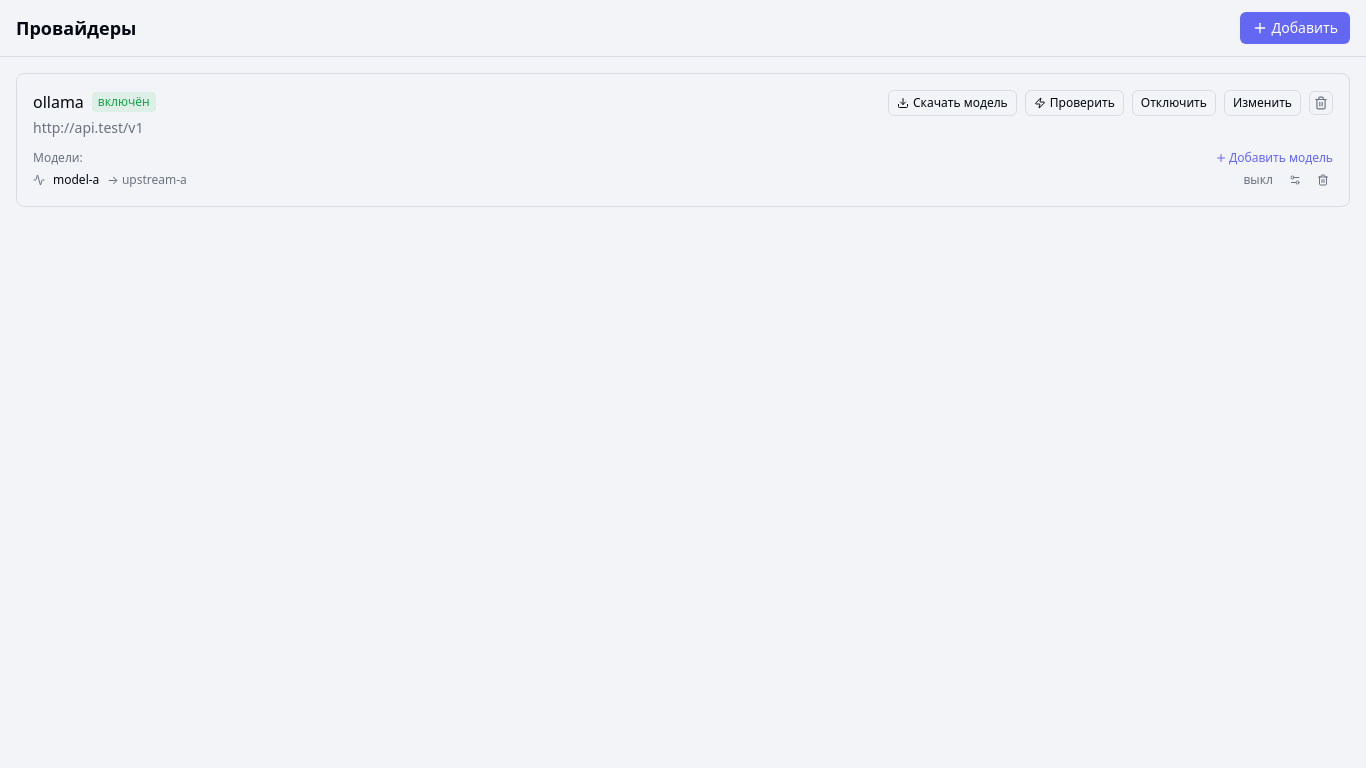
Test: ProvidersPage: удаление модели (T-443, коммит 2) › ошибка очистки диска показывается, модалка не закрывается
What coordinates should you click on to do the following:
click the button named "Удалить модель"
I would click on:
 (1323, 180)
Its box is [1313,172,1333,188].
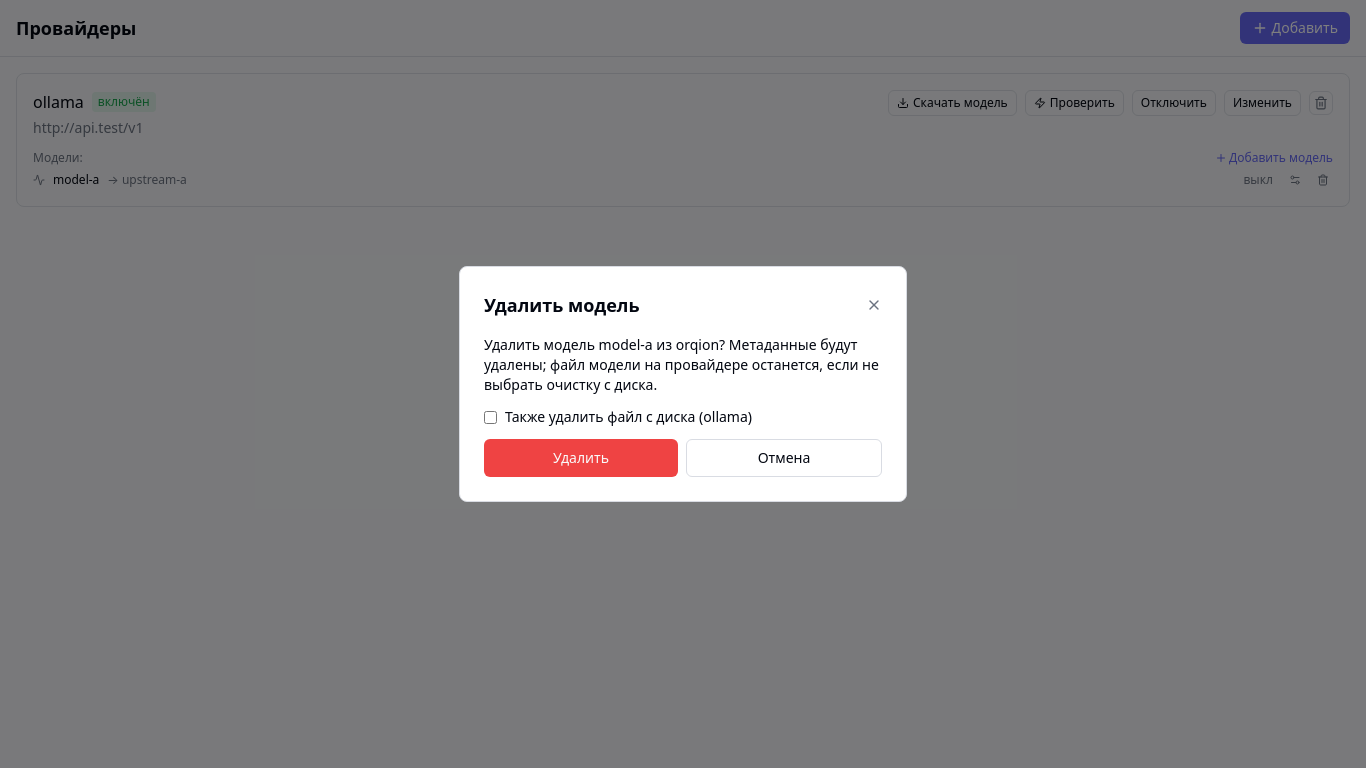
What coordinates should you click on to do the following:
click the checkbox
I would click on:
 (490, 417)
Its box is [484,410,497,424].
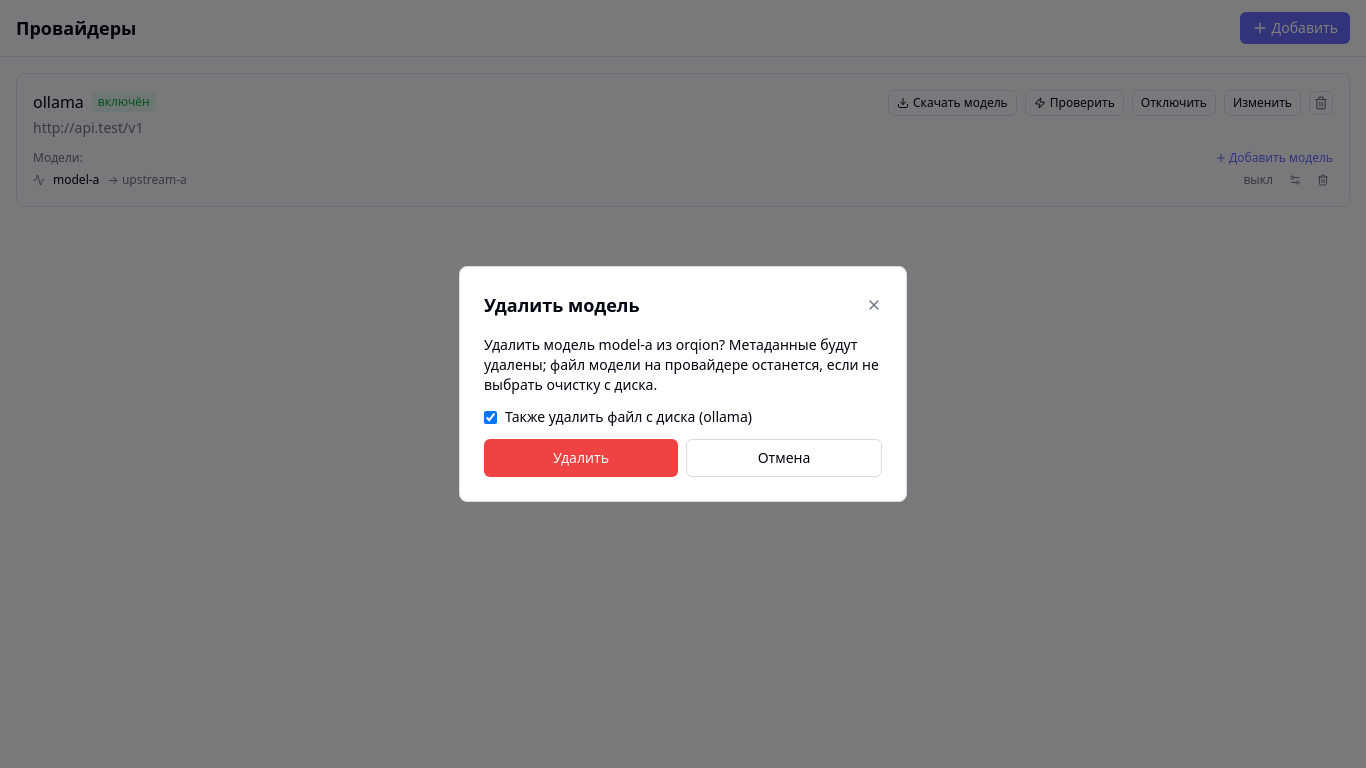
What coordinates should you click on to do the following:
click the button "Удалить"
I would click on:
 (581, 458)
Its box is [484,439,678,477].
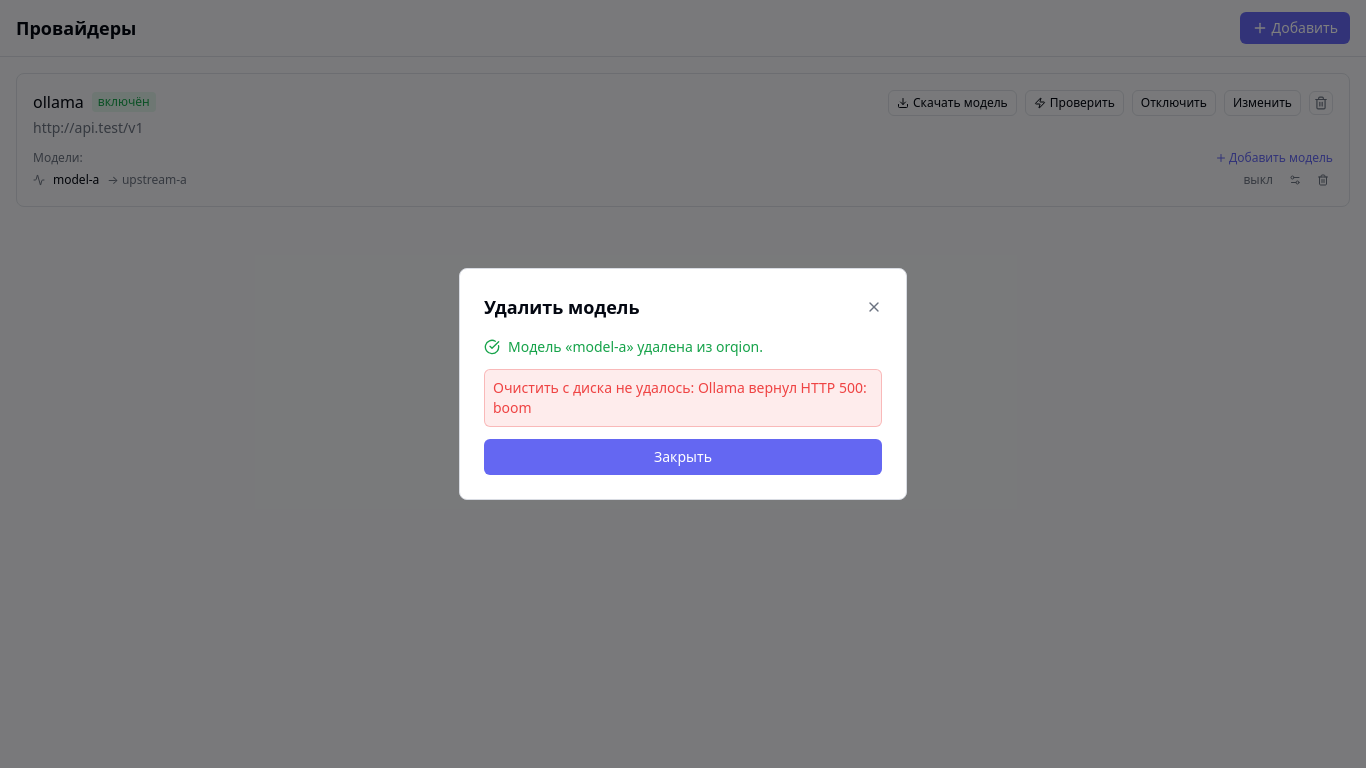
Now the text "Очистить с диска не удалось: Ollama вернул HTTP 500: boom" is shown, box [484,369,882,427]
Now the text "Модель «model-a» удалена из orqion." is shown, box [484,337,763,356]
